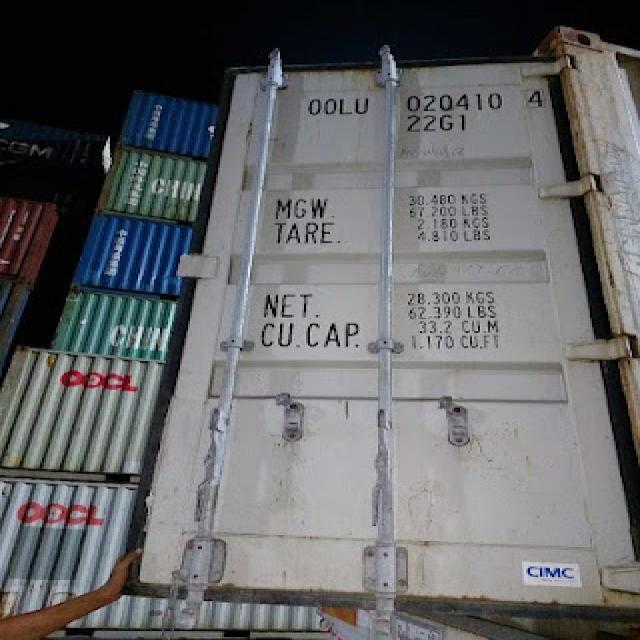ISO: (412, 114, 468, 134)
container_number: (308, 88, 554, 114)
